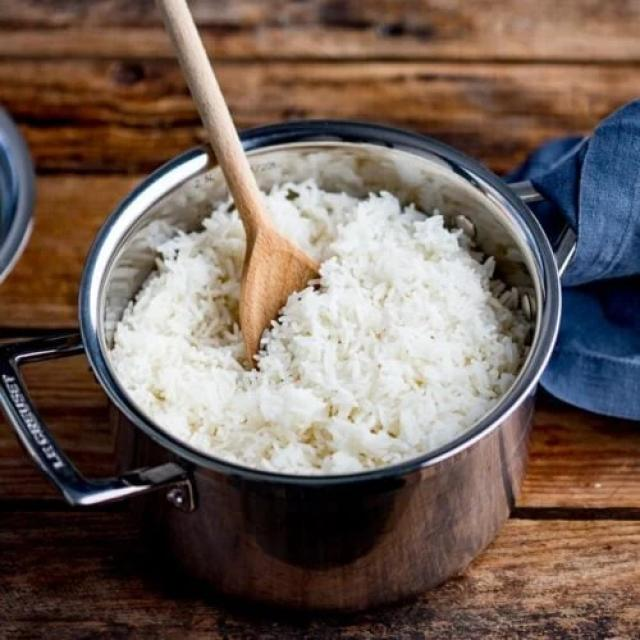Rice: (77, 97, 559, 612)
